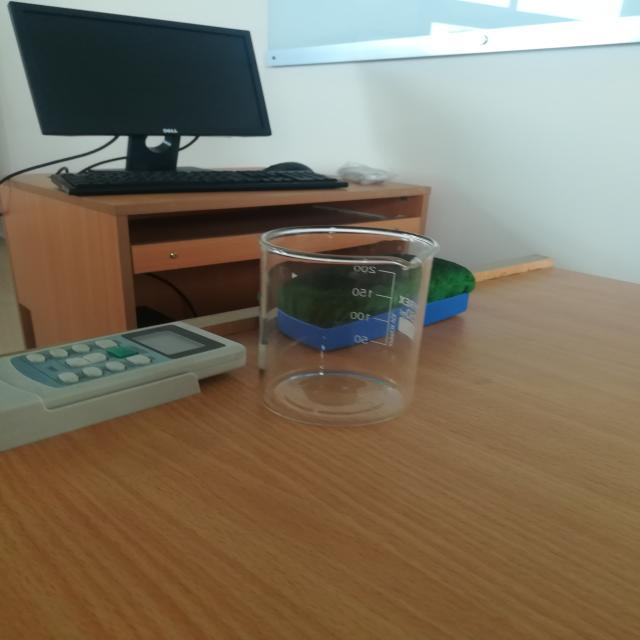Beaker: (196, 178, 480, 457)
